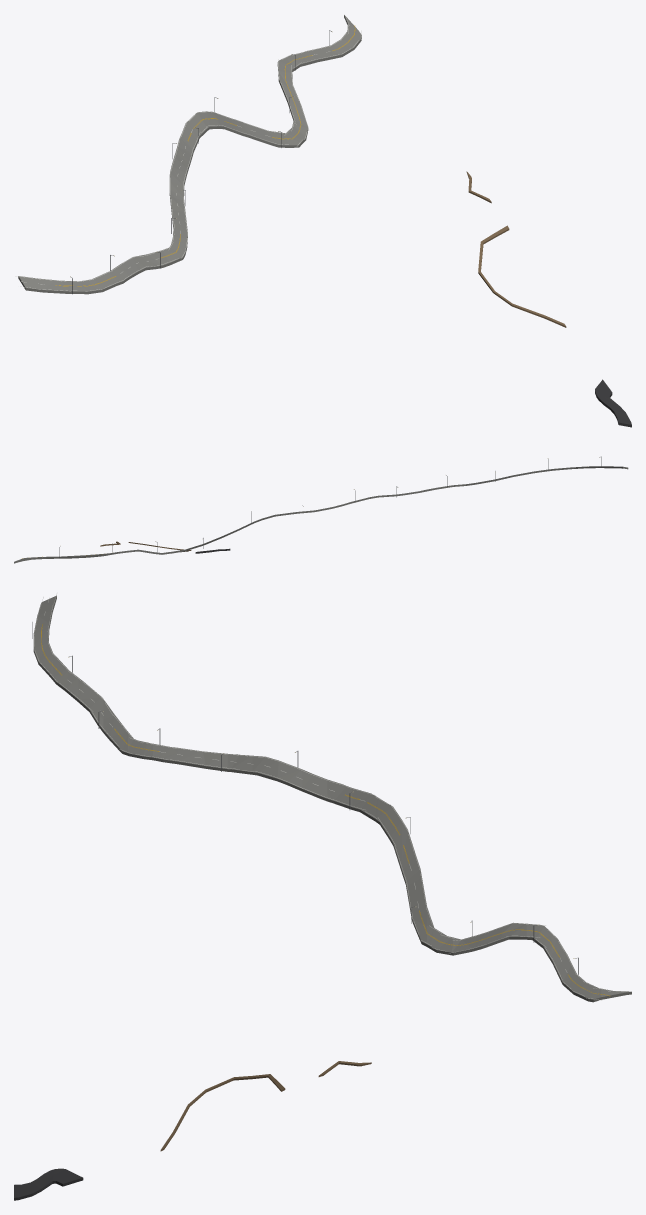
Rendered from 17-109469-59474.c7d6eeeb.glb.
3 renders of one model, top to bottom at view 1: azimuth 30°, elevation 25°; view 2: azimuth 150°, elevation 25°; view 3: azimuth 270°, elevation 25°, orthographic. The views are drawn at different scales.
Size of the model in its own units: 298 by 133 by 248.
